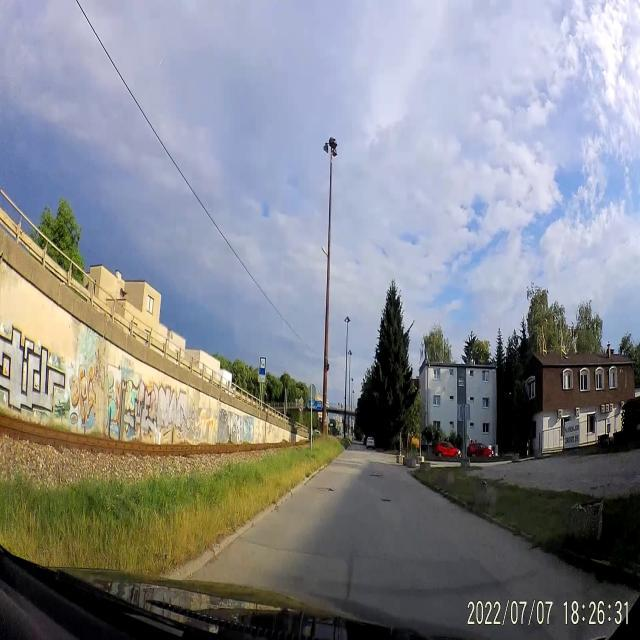Pothole: (316, 484, 336, 498), (378, 494, 391, 508), (369, 469, 383, 481)
